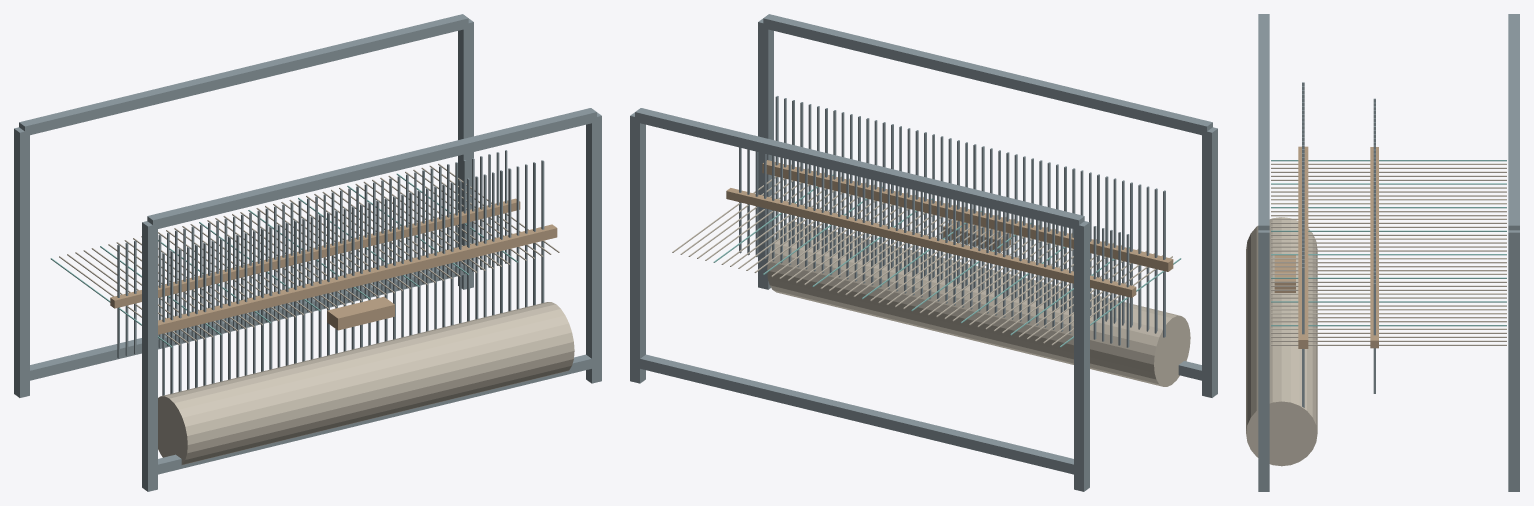
Rendered from loom-reference.glb.
The picture shows the model from 3 angles, left to right: view 1: azimuth 30°, elevation 25°; view 2: azimuth 150°, elevation 25°; view 3: azimuth 270°, elevation 25°; orthographic projection. The views are drawn at different scales.
Visible parts, largest first — view 1: rotor, cross_-1.75_4, cross_1.75_4, reed, post_-3.5_-1.75, post_-3.5_1.75, post_3.5_1.75, cross_-1.75_0.3, heddle, post_3.5_-1.75, cross_1.75_0.3, shuttle; view 2: rotor, cross_-1.75_4, cross_1.75_4, cross_-1.75_0.3, heddle, reed, post_-3.5_-1.75, post_-3.5_1.75, post_3.5_-1.75, post_3.5_1.75; view 3: rotor, post_3.5_-1.75, post_3.5_1.75, cross_-1.75_4, cross_1.75_4, reed, heddle, shuttle, warp_6, warp_7, warp_8, warp_9 (+45 smaller).
Boxes of the visible parts, bbox=[...] form: rotor: bbox=[158, 302, 574, 464]; cross_-1.75_4: bbox=[19, 14, 468, 135]; cross_1.75_4: bbox=[147, 108, 596, 229]; reed: bbox=[158, 224, 557, 334]; post_-3.5_-1.75: bbox=[14, 127, 29, 397]; post_-3.5_1.75: bbox=[142, 221, 157, 491]; post_3.5_1.75: bbox=[586, 112, 601, 383]; cross_-1.75_0.3: bbox=[27, 261, 466, 380]; heddle: bbox=[110, 198, 520, 308]; post_3.5_-1.75: bbox=[458, 18, 473, 289]; cross_1.75_0.3: bbox=[153, 354, 596, 475]; shuttle: bbox=[327, 296, 394, 330]; rotor: bbox=[767, 222, 1190, 386]; cross_-1.75_4: bbox=[635, 108, 1084, 230]; cross_1.75_4: bbox=[763, 14, 1212, 135]; cross_-1.75_0.3: bbox=[635, 354, 1078, 474]; heddle: bbox=[726, 188, 1136, 297]; reed: bbox=[762, 160, 1173, 271]; post_-3.5_-1.75: bbox=[1074, 221, 1089, 491]; post_-3.5_1.75: bbox=[1202, 127, 1217, 397]; post_3.5_-1.75: bbox=[630, 112, 645, 383]; post_3.5_1.75: bbox=[758, 18, 773, 289]; rotor: bbox=[1246, 217, 1317, 466]; post_3.5_-1.75: bbox=[1508, 230, 1519, 491]; post_3.5_1.75: bbox=[1258, 230, 1269, 491]; cross_-1.75_4: bbox=[1508, 14, 1519, 230]; cross_1.75_4: bbox=[1258, 14, 1269, 230]; reed: bbox=[1298, 146, 1308, 348]; heddle: bbox=[1370, 147, 1378, 348]; shuttle: bbox=[1274, 255, 1295, 292]; warp_6: bbox=[1271, 183, 1506, 184]; warp_7: bbox=[1271, 187, 1506, 188]; warp_8: bbox=[1271, 191, 1506, 192]; warp_9: bbox=[1271, 195, 1506, 196].
Bounding box in the file's own units: 7.16 × 4.08 × 3.83.
